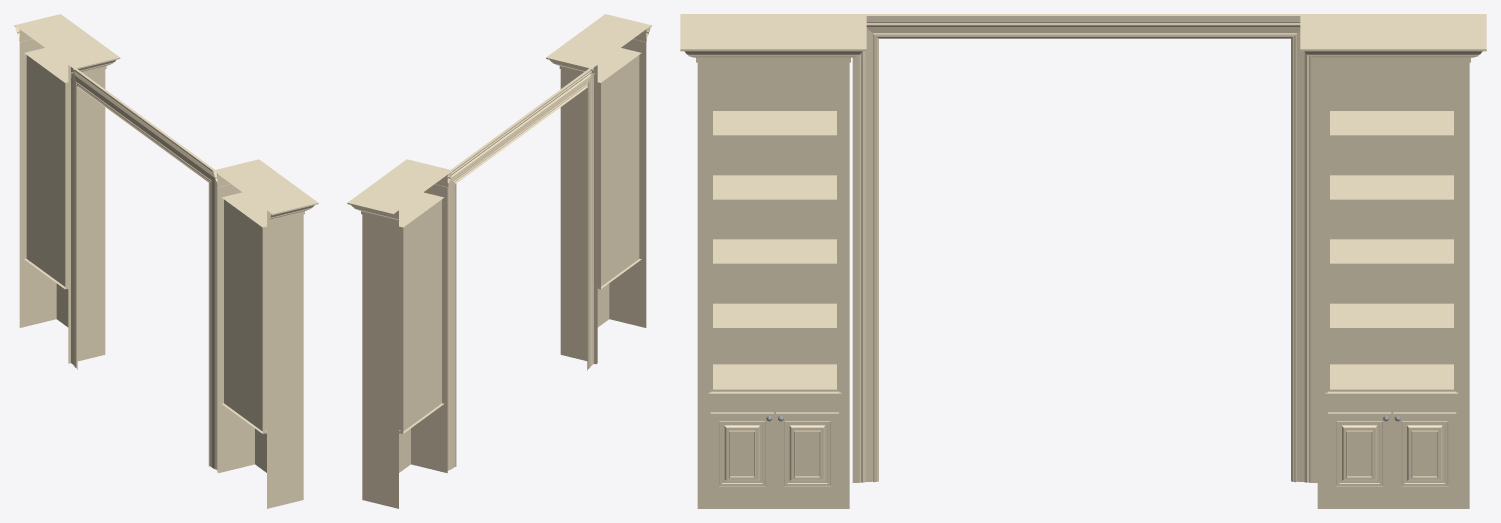
The model's file is shugui.fbx.
3 renders of one model, left to right at view 1: azimuth 30°, elevation 25°; view 2: azimuth 150°, elevation 25°; view 3: azimuth 270°, elevation 25°, orthographic. The views are drawn at different scales.
Parts seen in each view (by area): view 1: shugui; view 2: shugui; view 3: shugui.
Part boxes in pixels (x1,y1,x2,y2): shugui: (14,14,318,508); shugui: (347,14,651,508); shugui: (680,14,1486,508).
Bounding box in the file's own units: 47.08 × 290 × 454.
